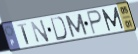D: (50, 16, 68, 42)
M: (64, 13, 90, 39), (101, 6, 125, 33)
N: (29, 18, 51, 44)
P: (86, 9, 103, 36)
T: (16, 22, 31, 46)
